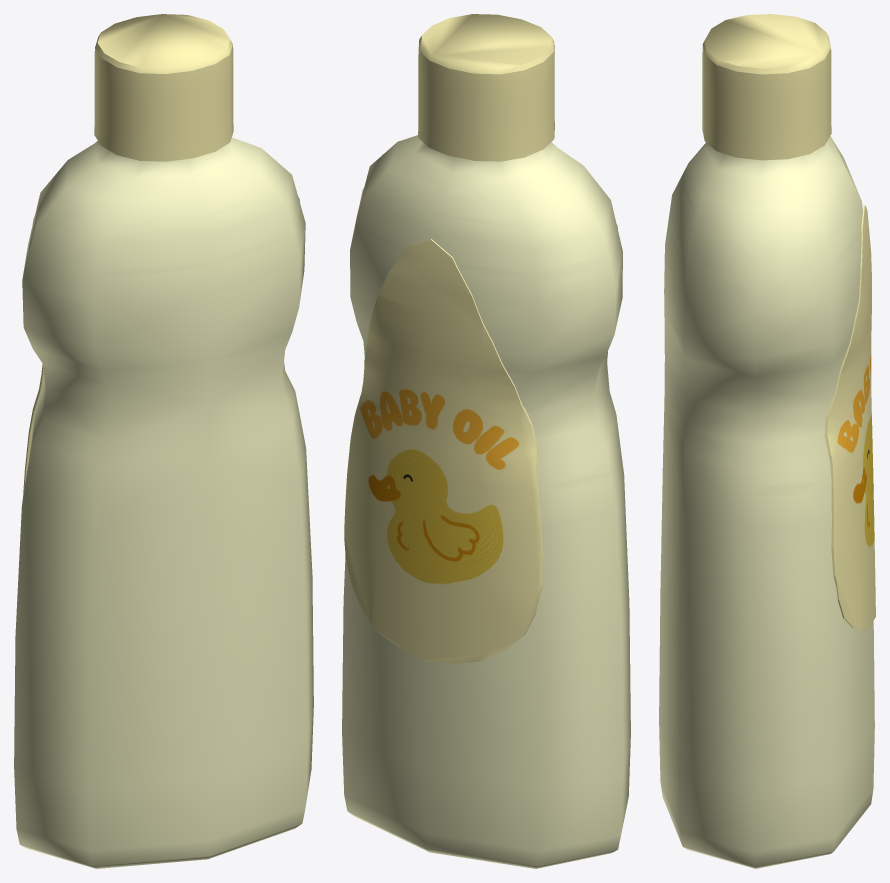
File: babyoil.fbx
3 views of the same model, side by side, from view 1: azimuth 30°, elevation 25°; view 2: azimuth 150°, elevation 25°; view 3: azimuth 270°, elevation 25° (orthographic).
Visible parts, largest first — view 1: Cube.019; view 2: Cube.019; view 3: Cube.019.
Boxes of the visible parts, x1=… form: Cube.019: x1=14, y1=14, x2=313, y2=868; Cube.019: x1=342, y1=14, x2=630, y2=868; Cube.019: x1=659, y1=14, x2=875, y2=868.
Size of the model in its own units: 40.63 by 27.08 by 106.
